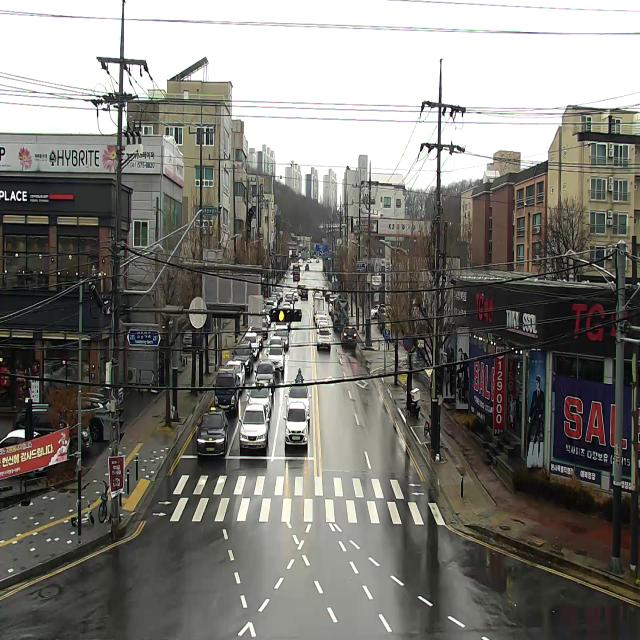Car: (12, 412, 92, 460), (0, 429, 45, 478), (74, 392, 110, 442), (197, 407, 228, 457), (239, 404, 270, 451), (284, 402, 310, 448), (285, 384, 312, 416), (247, 383, 272, 416), (232, 341, 253, 374), (254, 360, 276, 390), (225, 358, 245, 390), (266, 348, 285, 373), (341, 325, 357, 347), (274, 329, 289, 350), (317, 329, 331, 350), (250, 327, 264, 348), (268, 336, 284, 352), (313, 298, 324, 318), (372, 304, 386, 319), (314, 312, 326, 326), (274, 322, 289, 333), (317, 322, 330, 334), (183, 329, 192, 346), (262, 319, 268, 340), (328, 295, 336, 310), (317, 317, 329, 327), (274, 288, 283, 301), (284, 292, 294, 303), (300, 288, 308, 301), (296, 284, 306, 294), (268, 298, 278, 308), (291, 290, 299, 301), (312, 288, 320, 298), (322, 286, 330, 296), (314, 292, 322, 302), (266, 302, 277, 309), (325, 292, 333, 301), (274, 293, 280, 305), (329, 299, 333, 314), (262, 310, 267, 322), (266, 314, 271, 326), (265, 306, 273, 313), (282, 303, 291, 309), (284, 298, 292, 304), (270, 295, 278, 300), (305, 264, 309, 270), (290, 268, 293, 276), (287, 296, 293, 300), (310, 258, 314, 263), (307, 258, 310, 263)
Motorcycle: (296, 368, 304, 383)
Truck: (213, 367, 240, 412), (331, 294, 350, 332), (244, 332, 259, 357), (292, 264, 300, 281)
